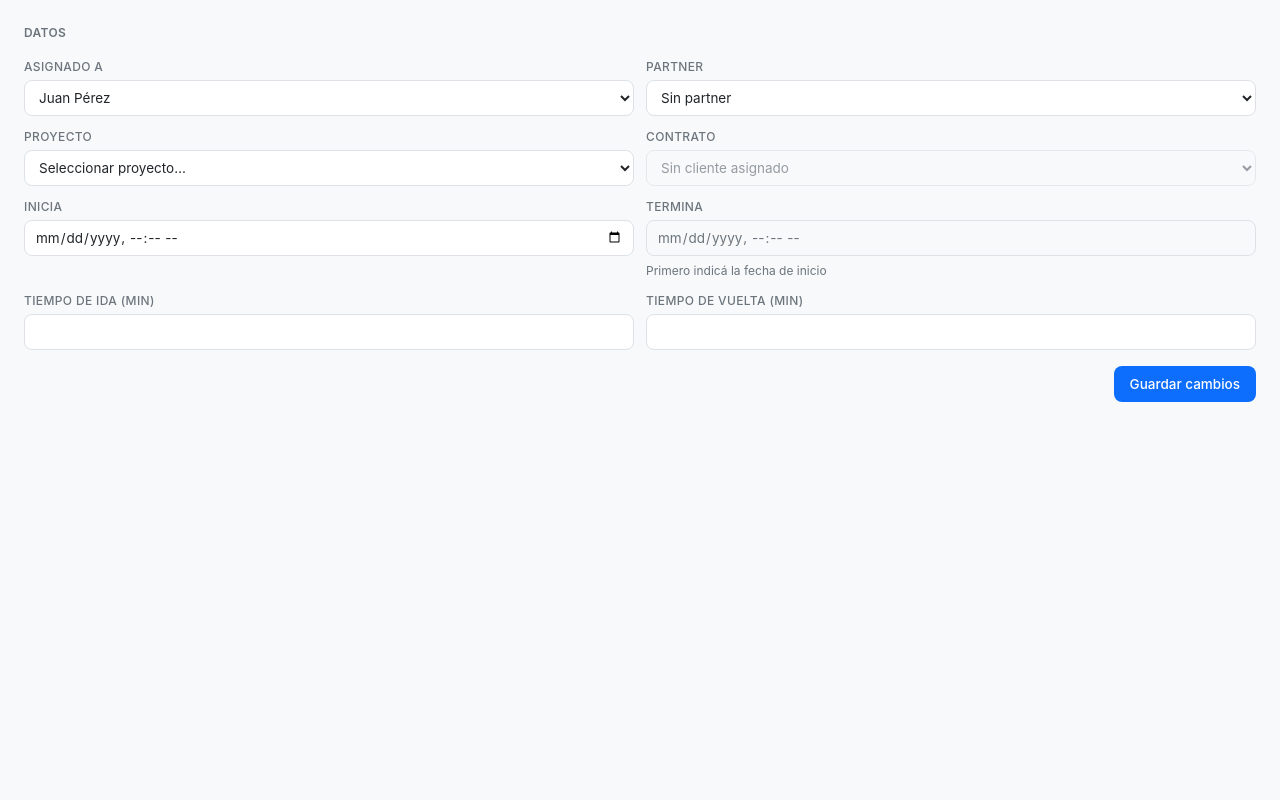
Test: DatosForm › #122 assignee sin cuadrilla IClass › cerrar el modal ("Entendido") lo oculta y mantiene el valor revertido
Select "Ana García" in the dropdown labelled "Asignado a". click: (329, 98)
box: [24,80,634,116]
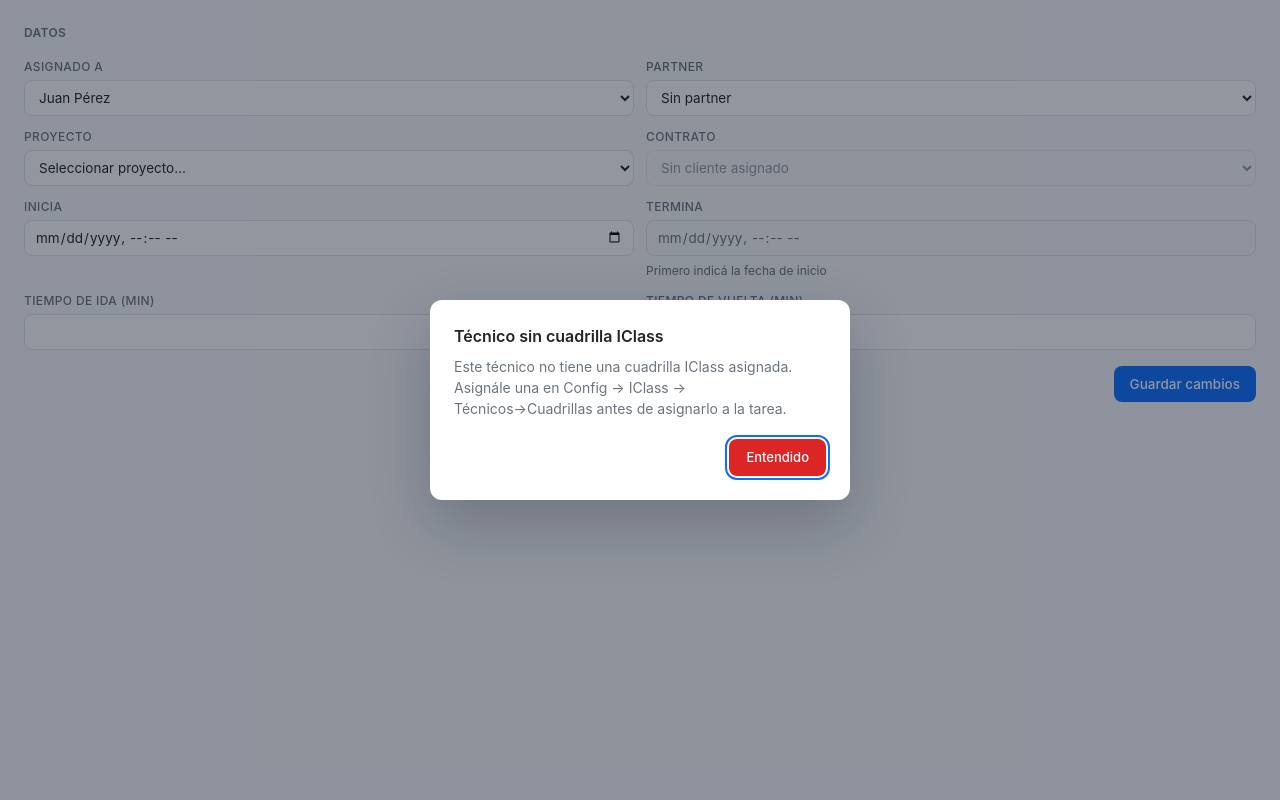
Result: the text "no tiene una cuadrilla IClass" is shown at [454,358,792,417]
Click the button "Entendido". click: (778, 458)
box: [729,439,826,476]
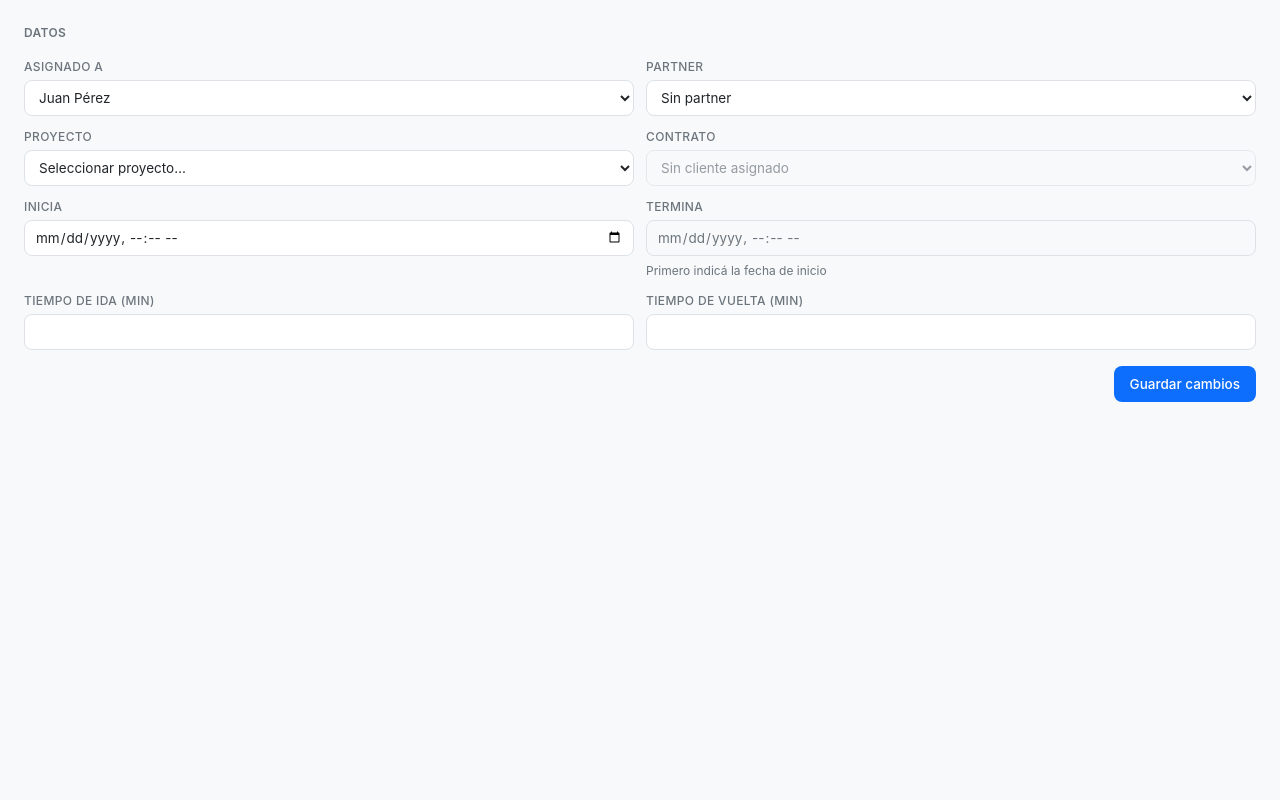
Result: the text "no tiene una cuadrilla IClass" is gone
